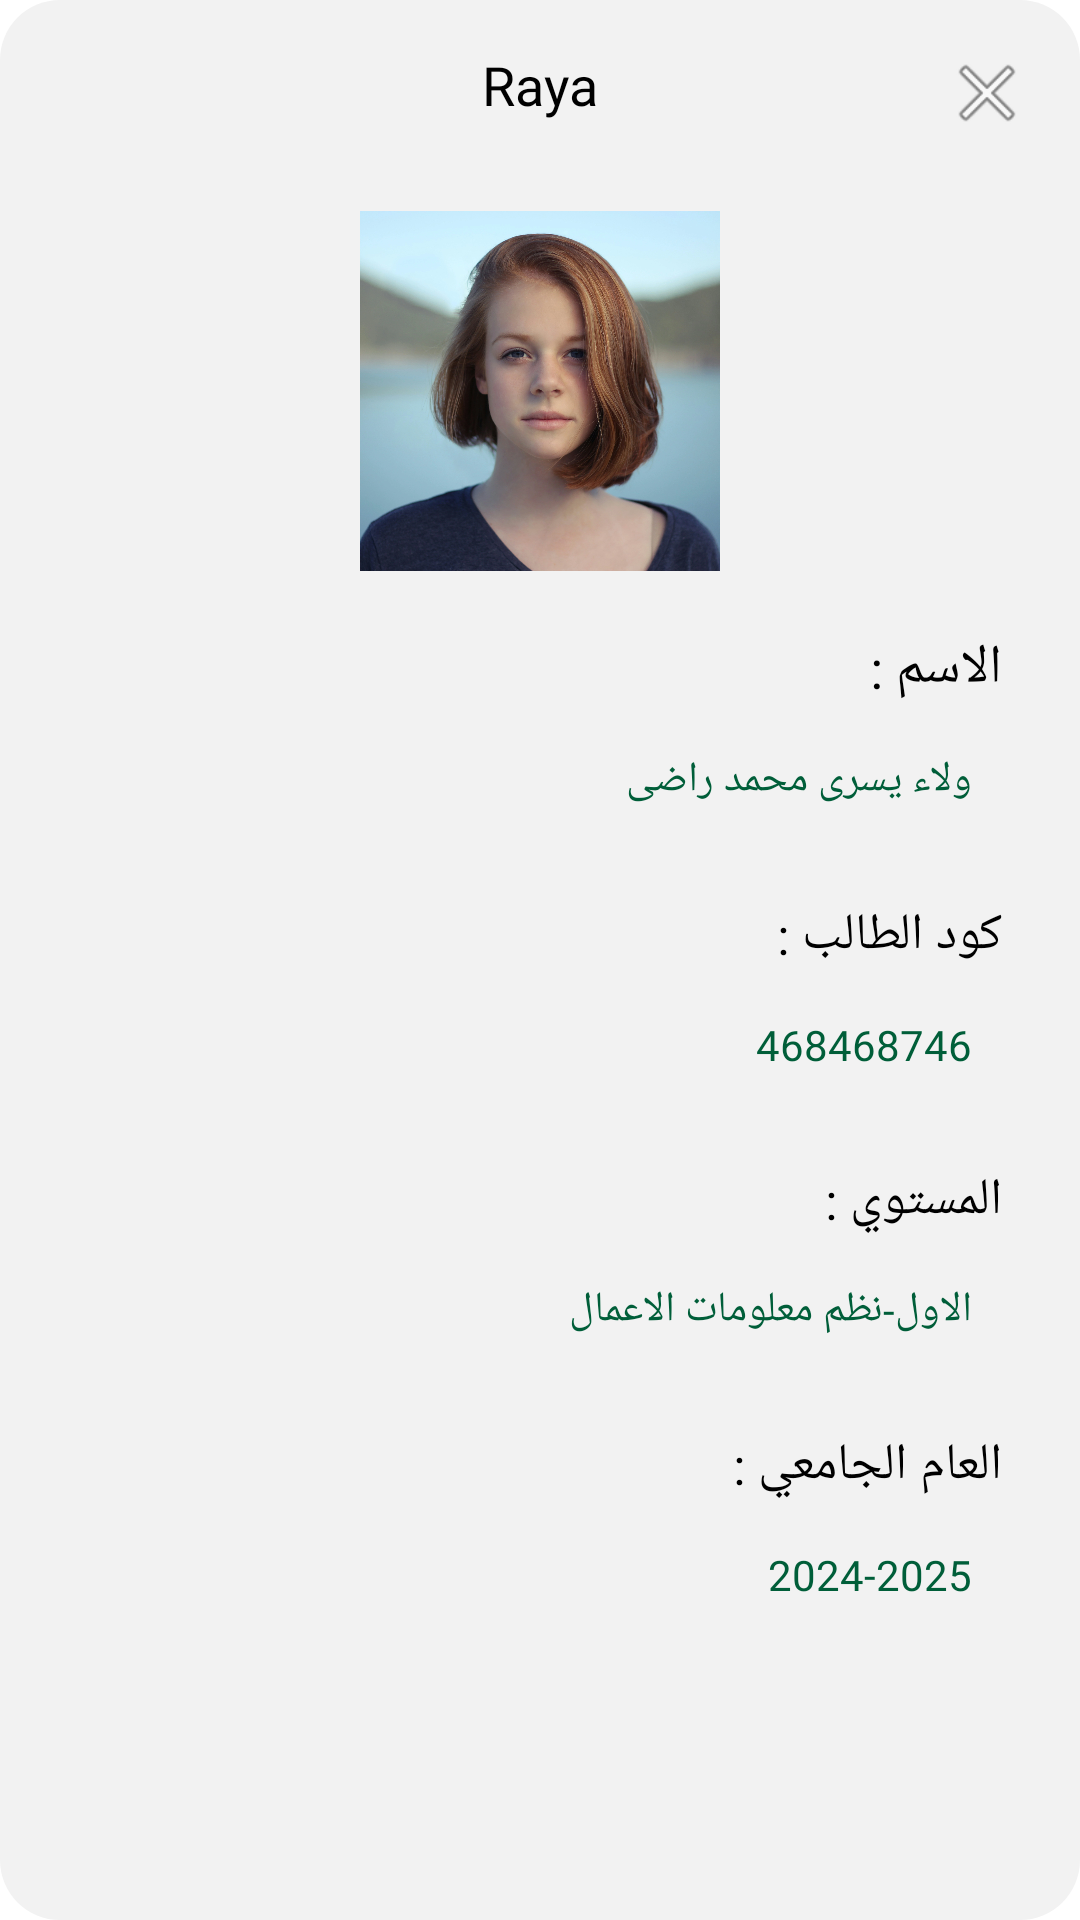

Icons on this 1080 x 1920 Android screen, each with its box as box=[x1, y1, x2, y2]:
close clear cancel: box=[959, 65, 1015, 121]
profile: box=[360, 211, 720, 571]
